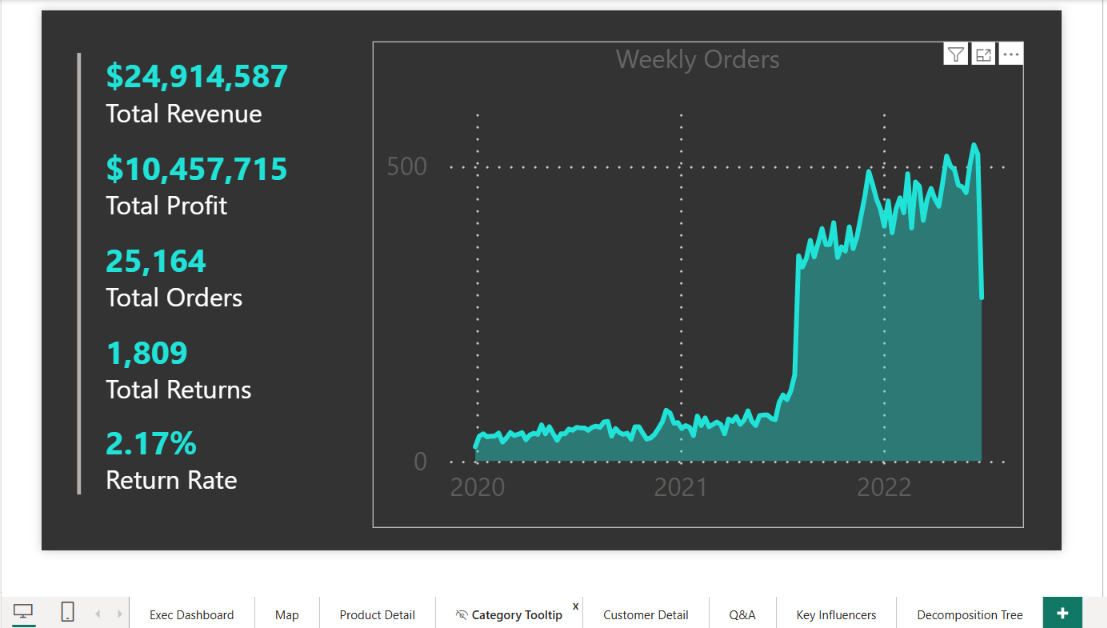

The dashboard page shown, as its layout file describes it:
{"tool":"powerbi","page":{"name":"Category Tooltip","canvas":[425,225],"ordinal":3},"visuals":[{"type":"multiRowCard","fields":{"Values":["Measure Table.Total Revenue","Measure Table.Total Profit","Measure Table.Total Orders","Measure Table.Total Returns","Measure Table.Return Rate"]},"box":[10,13,151,203],"z":0},{"type":"areaChart","title":"Weekly Orders","fields":{"Category":["Calendar Lookup.Start of Week"],"Y":["Measure Table.Total Orders"]},"box":[138,13,271,203],"z":1000}]}

Visuals, with their boxes on the page's 425x225 design canvas (x1, y1, x2, y2). These are canvas units, not pixel positions in the 1107x628 screenshot, which may show the page scaled, cropped or inside an application window:
multiRowCard - Measure Table.Total Revenue x Measure Table.Total Profit: detection(10, 13, 161, 216)
"Weekly Orders" areaChart: detection(138, 13, 409, 216)
